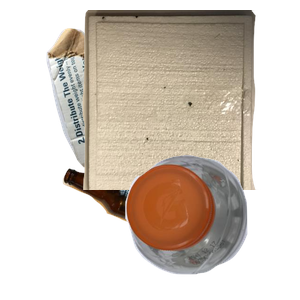cardboard: (44, 26, 209, 186)
glass: (60, 166, 241, 300)
plastic: (123, 152, 300, 300)
trash: (80, 10, 300, 190)
